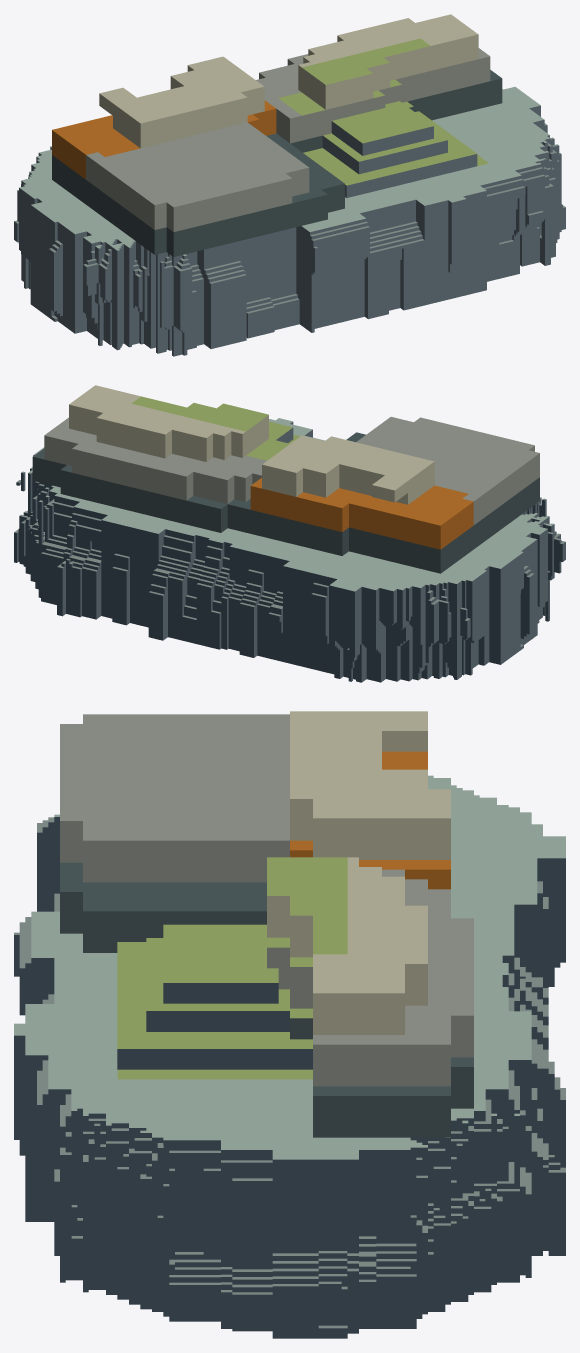
Rendered from LE04_Workflow.fbx.
3 views of the same model, one above another, from view 1: azimuth 30°, elevation 25°; view 2: azimuth 150°, elevation 25°; view 3: azimuth 270°, elevation 25° (orthographic). The views are drawn at different scales.
Visible parts, largest first — view 1: chunk_0_0, chunk__1_0, chunk_1_0, chunk__1__1, chunk_0__1, chunk_1__1, chunk__2_0, chunk__2__1; view 2: chunk_0__1, chunk__1__1, chunk_1__1, chunk_1_0, chunk_0_0, chunk__2__1, chunk__1_0; view 3: chunk__1_0, chunk__1__1, chunk_0_0, chunk__2__1, chunk_0__1, chunk__2_0, chunk_1_0, chunk_1__1.
Part boxes in pixels (x1,y1,x2,y2): chunk_0_0: [105, 111, 373, 356]; chunk__1_0: [295, 68, 553, 317]; chunk_1_0: [49, 157, 173, 353]; chunk__1__1: [256, 14, 484, 125]; chunk_0__1: [36, 56, 294, 167]; chunk_1__1: [14, 127, 104, 318]; chunk__2_0: [485, 102, 565, 257]; chunk__2__1: [478, 48, 535, 113]; chunk_0__1: [211, 435, 468, 682]; chunk__1__1: [35, 385, 283, 647]; chunk_1__1: [406, 494, 520, 680]; chunk_1_0: [469, 450, 565, 649]; chunk_0_0: [346, 417, 541, 503]; chunk__2__1: [14, 417, 68, 589]; chunk__1_0: [217, 403, 324, 448]; chunk__1_0: [14, 857, 289, 1282]; chunk__1__1: [290, 857, 565, 1284]; chunk_0_0: [14, 724, 289, 1015]; chunk__2__1: [290, 1035, 502, 1338]; chunk_0__1: [290, 711, 565, 1025]; chunk__2_0: [83, 1118, 289, 1338]; chunk_1_0: [83, 714, 289, 723]; chunk_1__1: [428, 775, 508, 807].
Bounding box in the file's own units: 1062 × 350 × 600.
8 materials, 8 textured.
